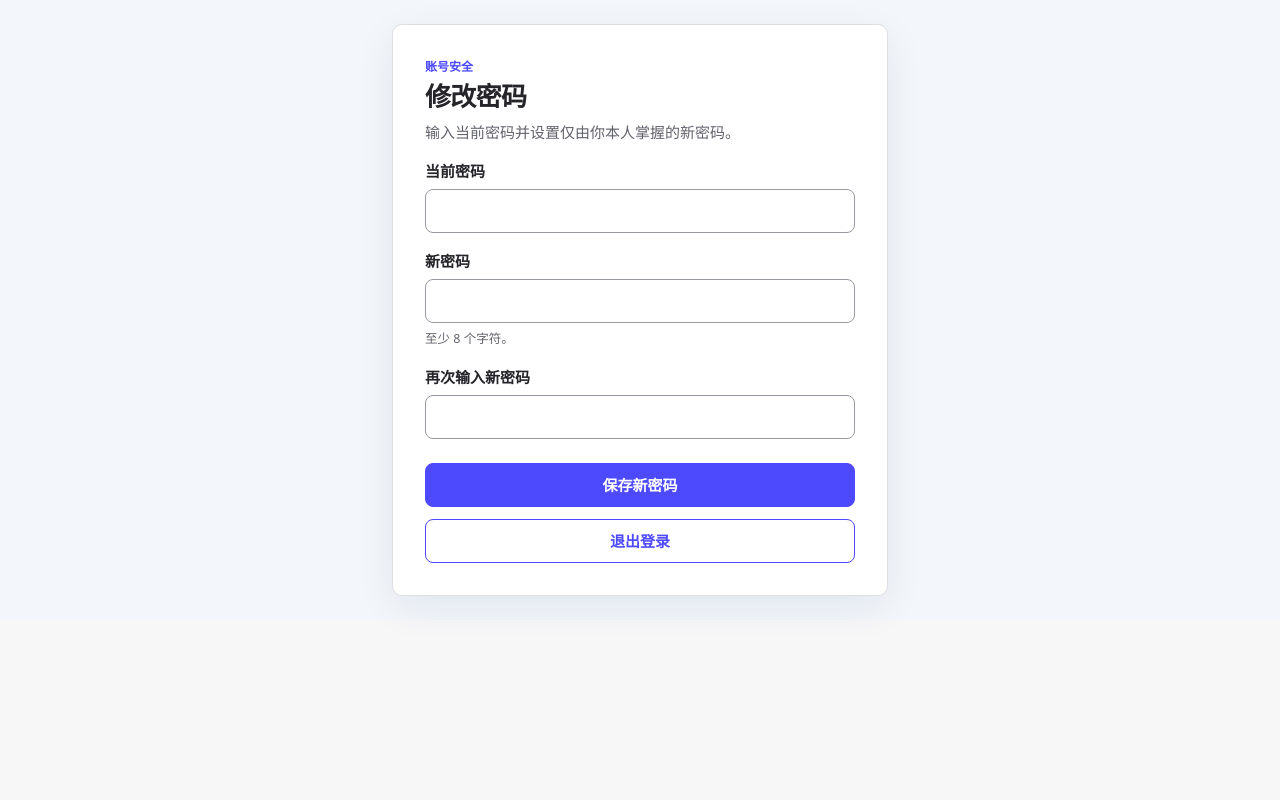
Test case: PasswordChangePage › submits the current password and two accessible new-password fields
Type "current-password" into the password field named "current_password".
click(640, 211); type("current-password")  # box [425,189,855,233]
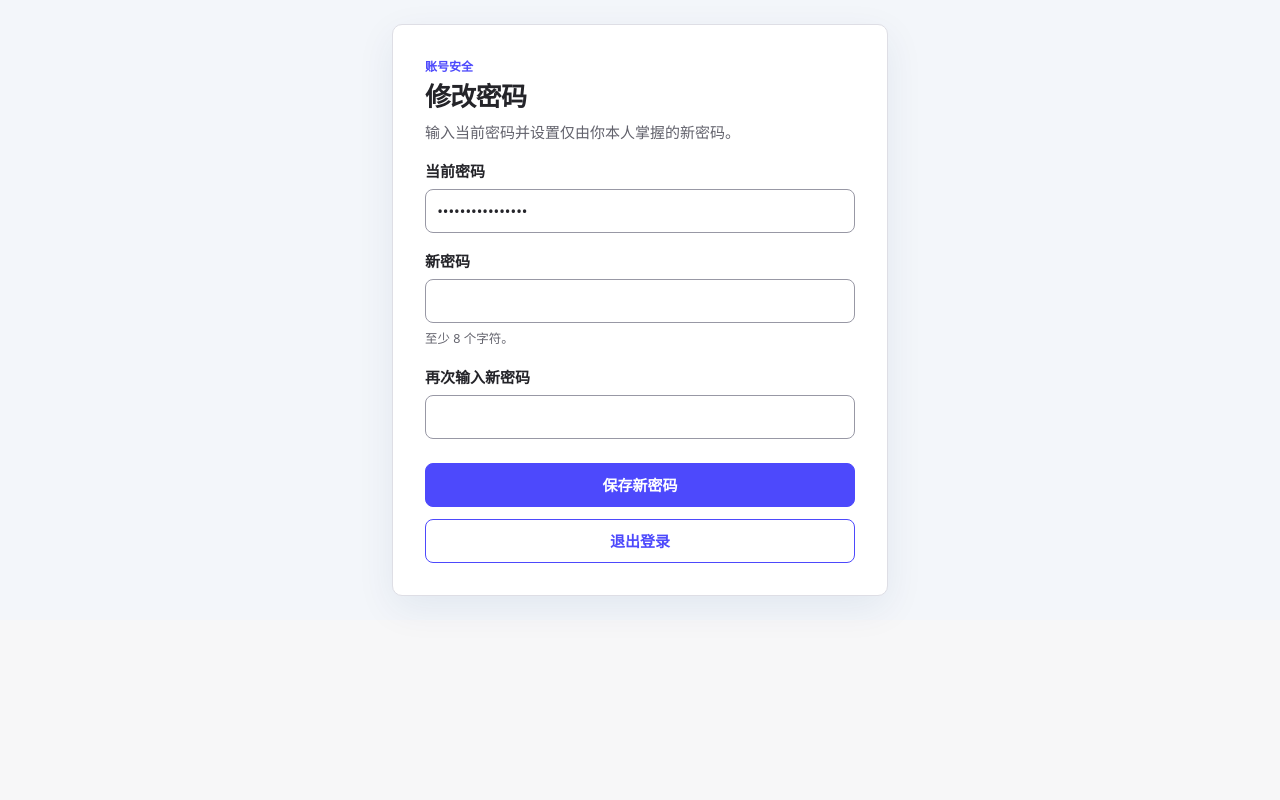
Type "new-password" into the password field named "new_password1".
click(640, 301); type("new-password")  # box [425,279,855,323]
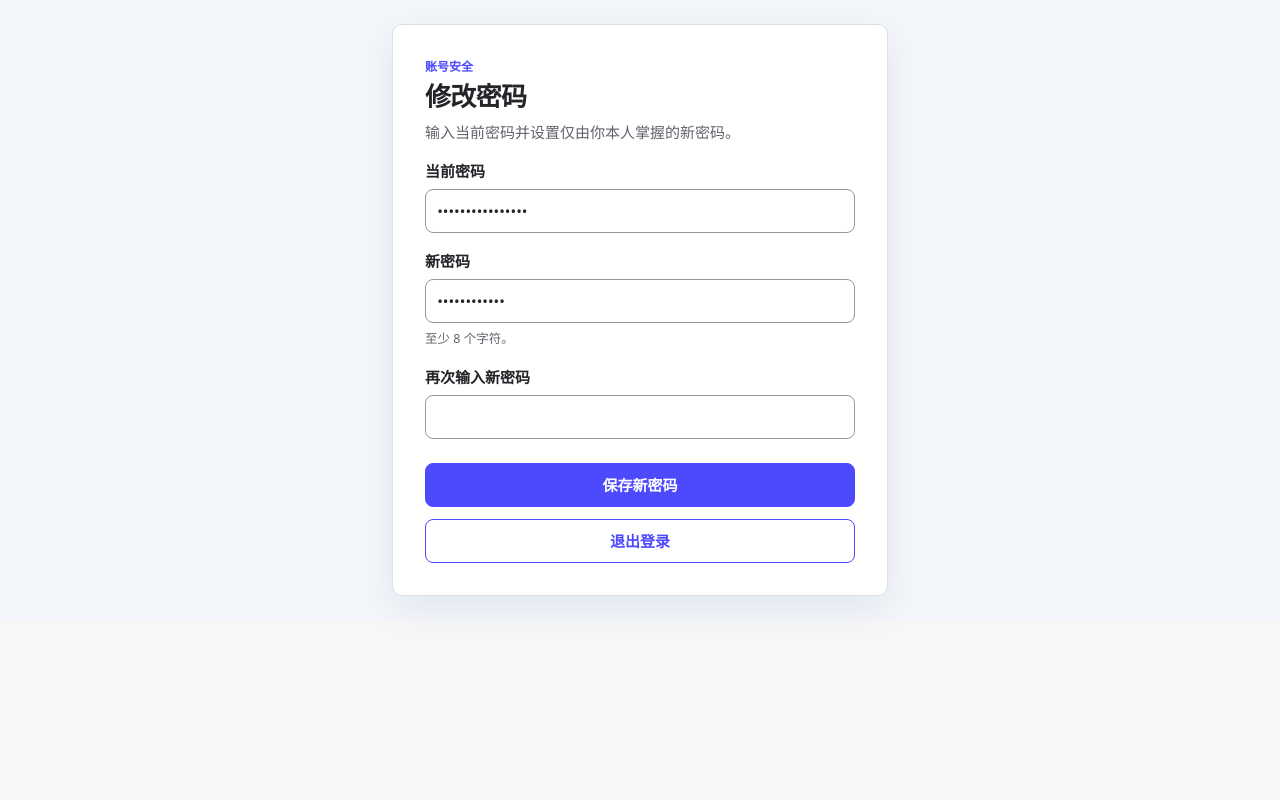
Type "different-password" into the password field named "new_password2".
click(640, 417); type("different-password")  # box [425,395,855,439]
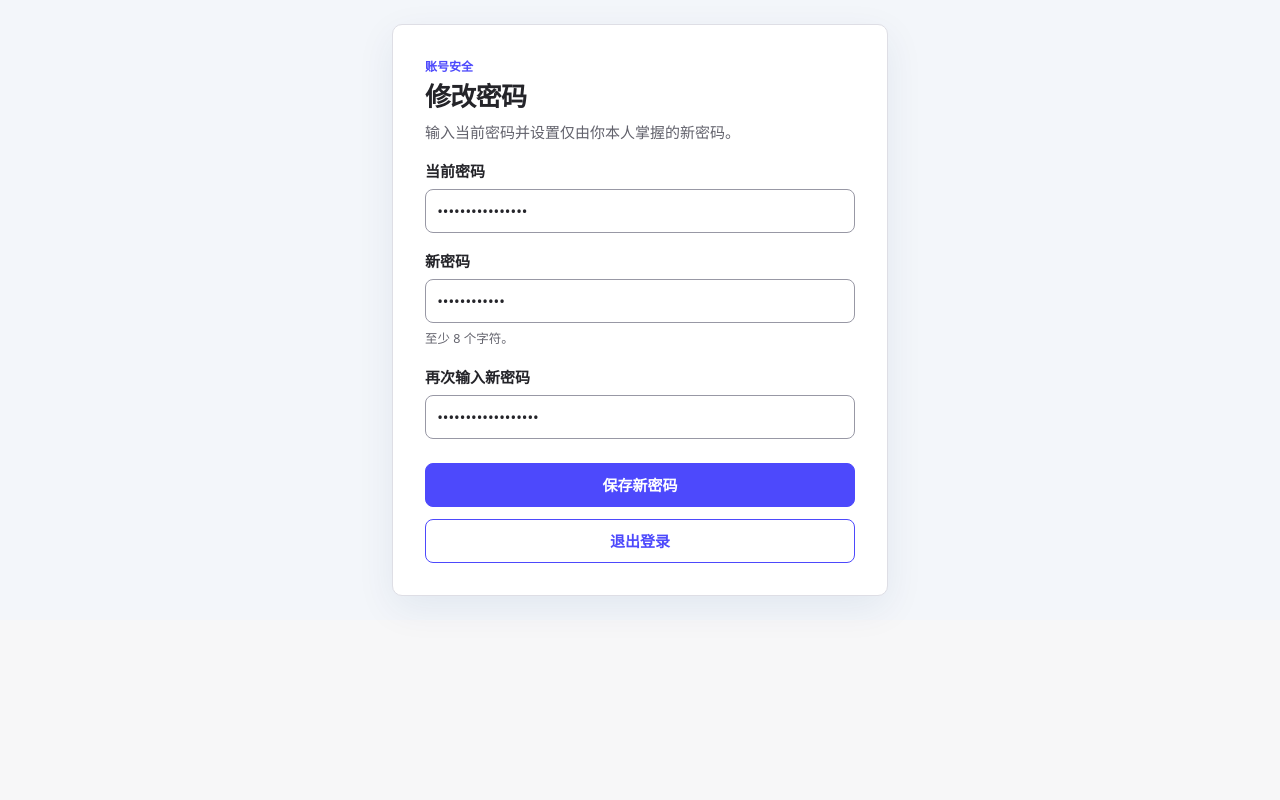
Submit the form, box [425,159,855,507]
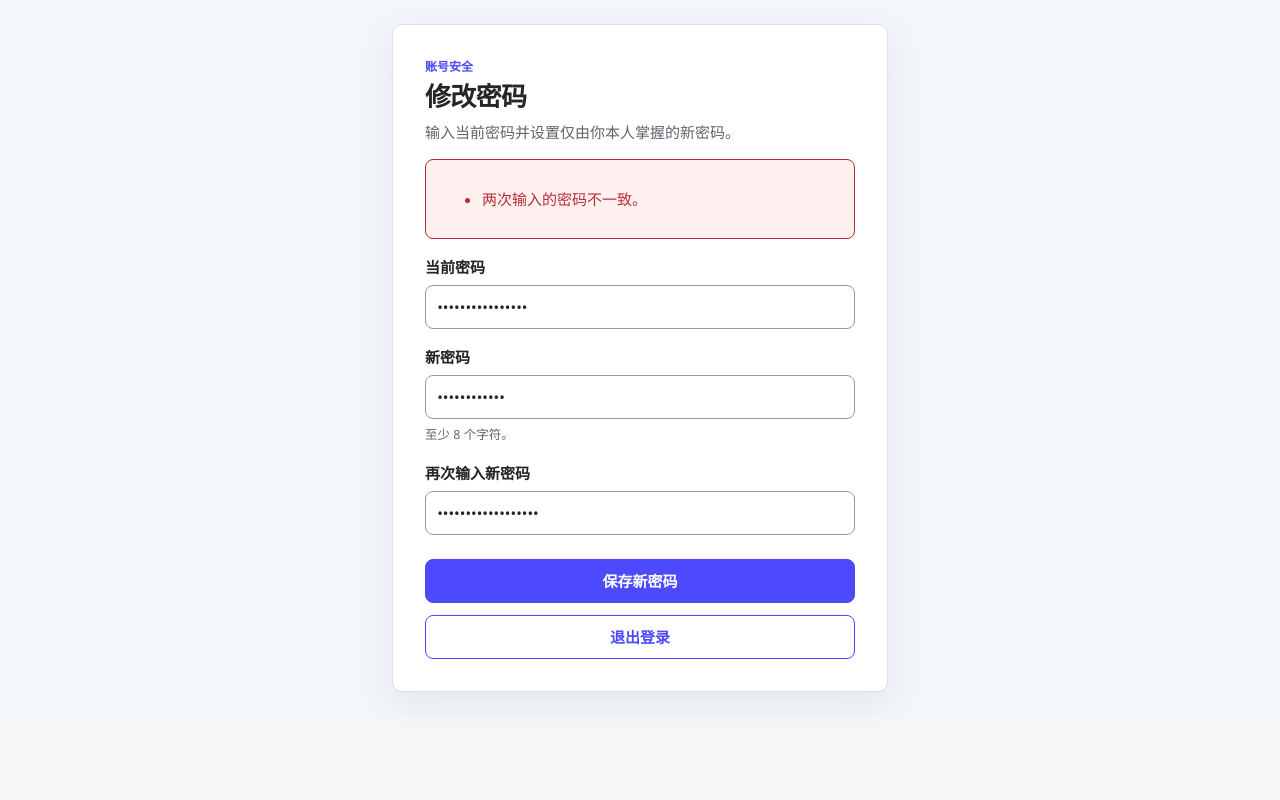
Now the message "两次输入的密码不一致。" is shown, box [425,159,855,239]
